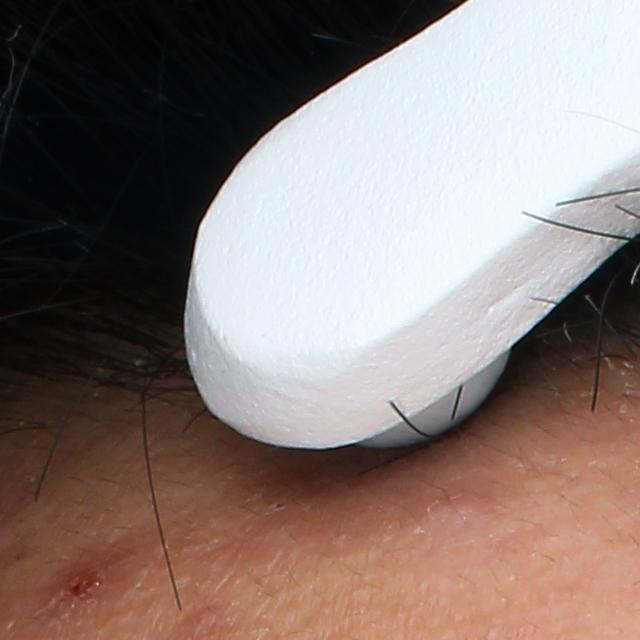papule: (54, 564, 106, 610)
